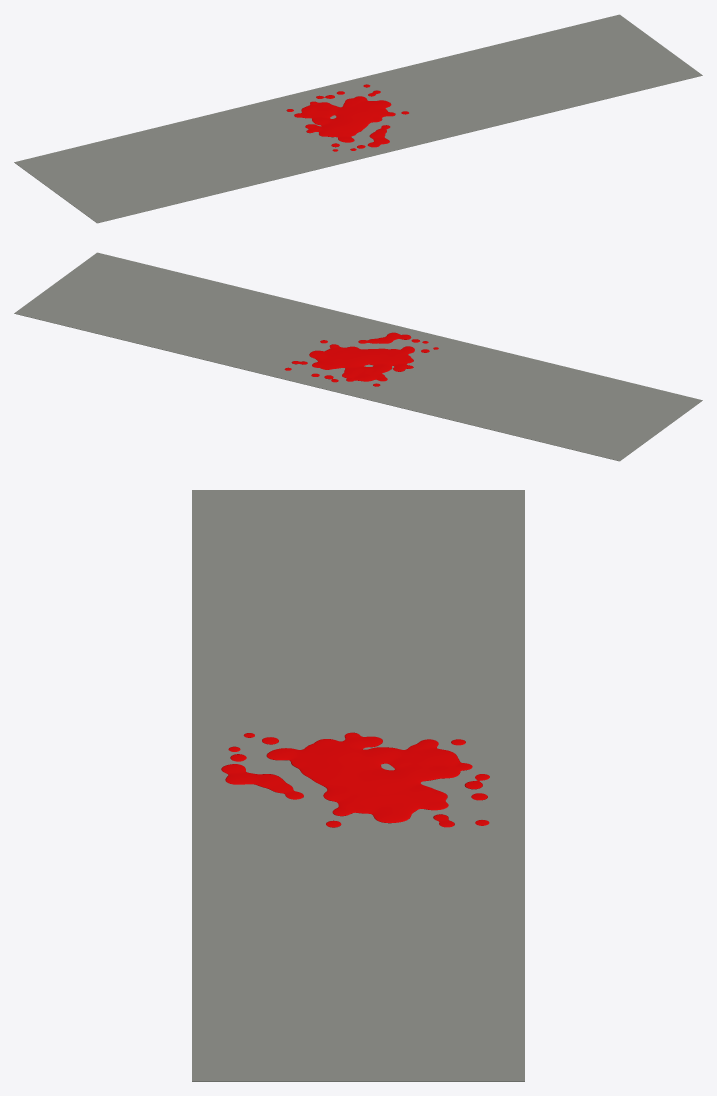
Rendered from specimen.gltf.
The picture shows the model from 3 angles, top to bottom: view 1: azimuth 30°, elevation 25°; view 2: azimuth 150°, elevation 25°; view 3: azimuth 270°, elevation 25°; orthographic projection. The views are drawn at different scales.
Visible parts, largest first — view 1: Cube.028, Remesh; view 2: Cube.028, Remesh; view 3: Cube.028, Remesh.
Boxes of the visible parts, x1,y1,x2,y2 form: Cube.028: (14, 14, 702, 223); Remesh: (286, 84, 408, 151); Cube.028: (14, 252, 702, 461); Remesh: (284, 332, 438, 386); Cube.028: (192, 490, 524, 1081); Remesh: (221, 732, 489, 827).
Size of the model in its own units: 0.4863 by 0.00121 by 0.1158.
